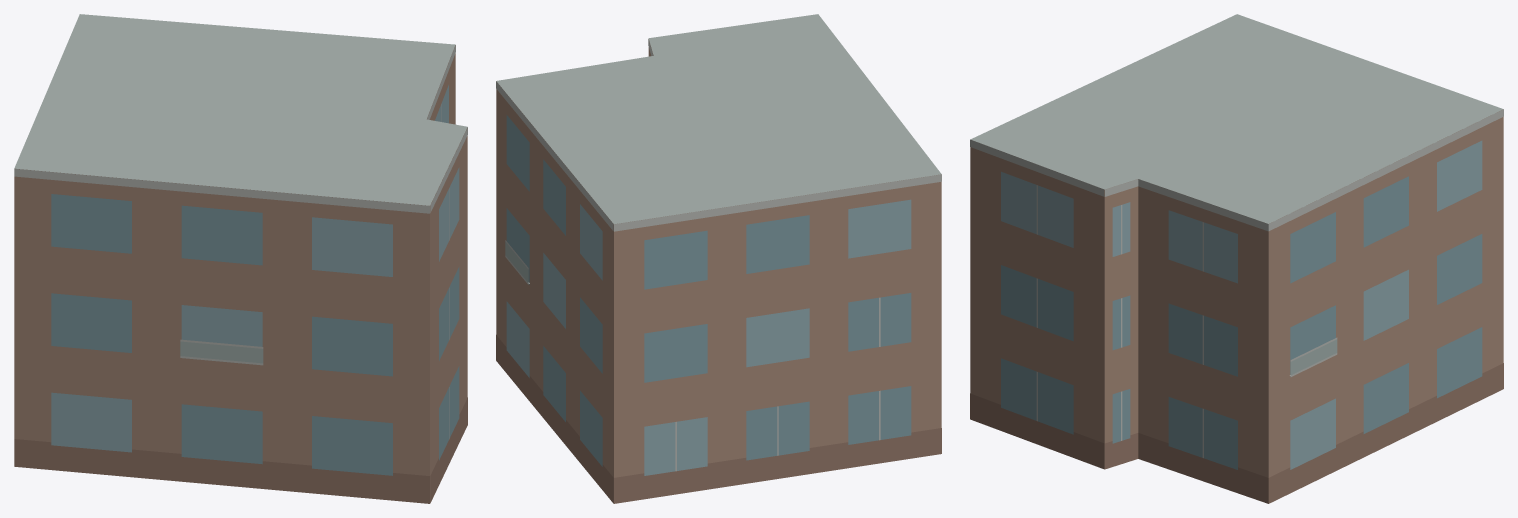
Rendered from survey-upis-32673752.glb.
3 renders of one model, left to right at view 1: azimuth 30°, elevation 25°; view 2: azimuth 150°, elevation 25°; view 3: azimuth 270°, elevation 25°, orthographic. The views are drawn at different scales.
Visible parts, largest first — view 1: survey-upis-32673752.tmp; view 2: survey-upis-32673752.tmp; view 3: survey-upis-32673752.tmp.
Part boxes in pixels (x1,y1,x2,y2): survey-upis-32673752.tmp: (14, 14, 467, 503); survey-upis-32673752.tmp: (496, 14, 941, 503); survey-upis-32673752.tmp: (970, 14, 1503, 503).
Size of the model in its own units: 14.73 by 9.15 by 15.82.
